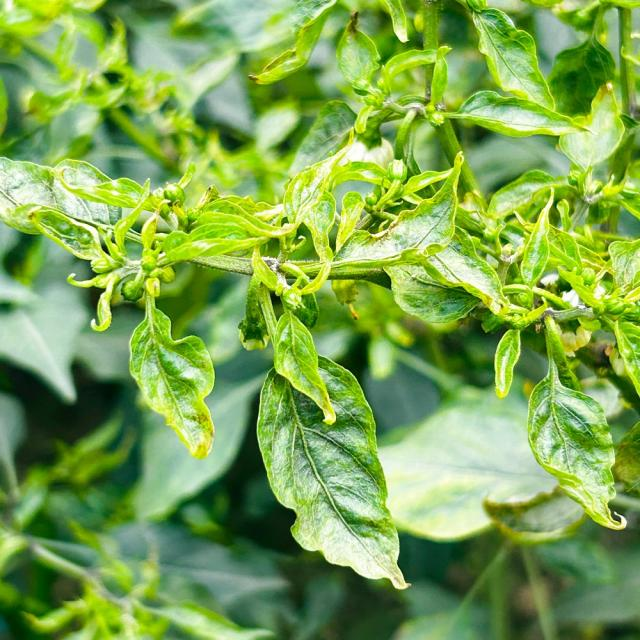Chilli_Leaf_Curl: (1, 1, 638, 590), (254, 348, 412, 590), (524, 318, 627, 532), (127, 298, 216, 460), (465, 2, 556, 112), (270, 308, 338, 426)
